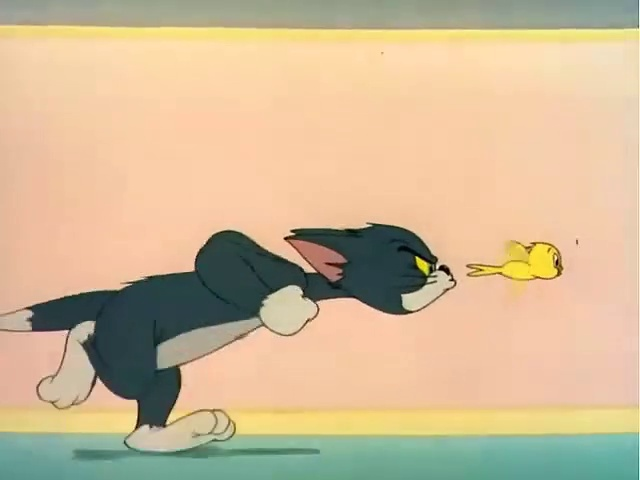tom: (6, 146, 468, 457)
